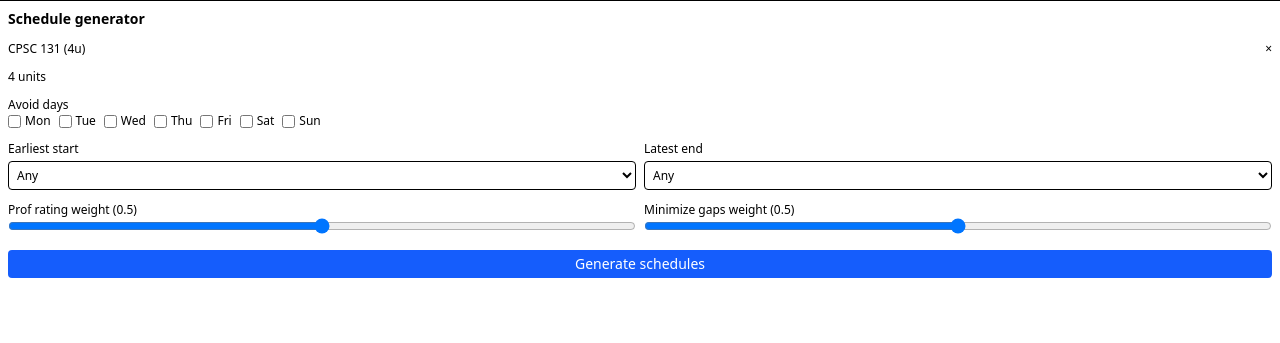
Test: SolverPanel › explains eliminations when no schedule exists
Click the button "Generate schedules": click(640, 264) [8,250,1272,278]
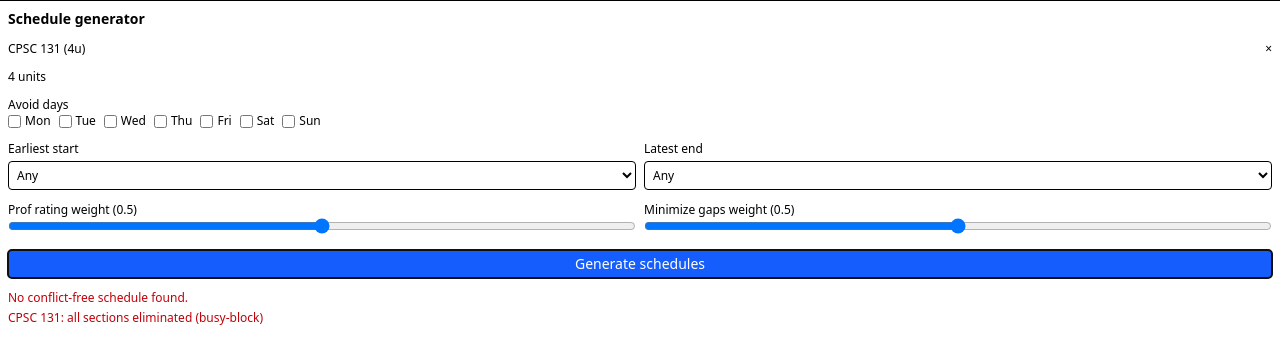
Now the text "CPSC 131: all sections eliminated (busy-block)" is shown, box [8,309,263,326]
